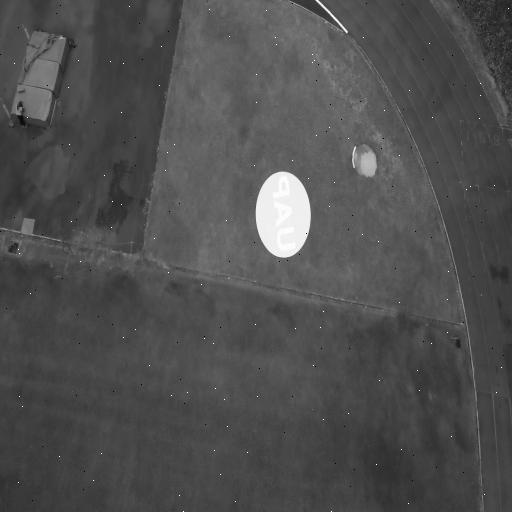UAP: (256, 172, 311, 258)
person: (15, 101, 25, 127)
